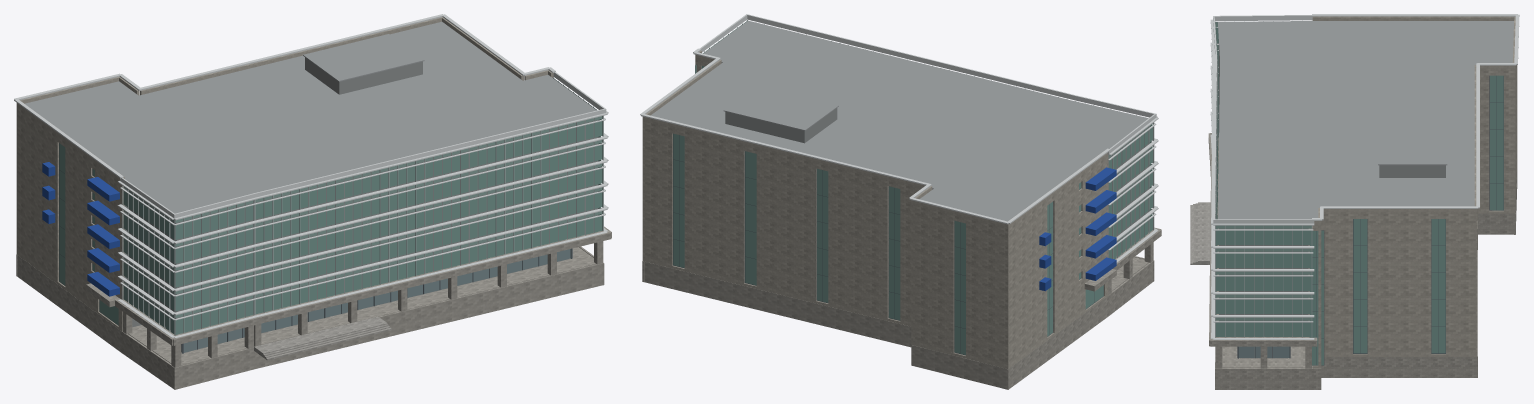
The picture shows the model from 3 angles, left to right: view 1: azimuth 30°, elevation 25°; view 2: azimuth 150°, elevation 25°; view 3: azimuth 270°, elevation 25°; orthographic projection. The views are drawn at different scales.
Parts seen in each view (by area): view 1: creativeLearning__roof, creativeLearning__glass, creativeLearning__stoneCol, creativeLearning__ledge, creativeLearning__stone, creativeLearning__core, creativeLearning__mullion, creativeLearning__glassSpandrel, creativeLearning__glassLow, creativeLearning__blueBox, creativeLearning__entranceSteps, creativeLearning__frame; view 2: creativeLearning__stone, creativeLearning__roof, creativeLearning__stoneCol, creativeLearning__glass, creativeLearning__ledge, creativeLearning__blueBox, creativeLearning__core, creativeLearning__frame, creativeLearning__mullion; view 3: creativeLearning__roof, creativeLearning__stone, creativeLearning__glass, creativeLearning__stoneCol, creativeLearning__ledge, creativeLearning__core, creativeLearning__glassSpandrel, creativeLearning__frame, creativeLearning__mullion, creativeLearning__entranceSteps, creativeLearning__glassLow.
Part boxes in pixels (x1=…): creativeLearning__roof: x1=25, y1=21, x2=596, y2=213; creativeLearning__glass: x1=59, y1=119, x2=602, y2=334; creativeLearning__stoneCol: x1=16, y1=226, x2=611, y2=389; creativeLearning__ledge: x1=14, y1=14, x2=608, y2=338; creativeLearning__stone: x1=16, y1=17, x2=553, y2=331; creativeLearning__core: x1=124, y1=57, x2=598, y2=352; creativeLearning__mullion: x1=122, y1=77, x2=603, y2=335; creativeLearning__glassSpandrel: x1=123, y1=78, x2=602, y2=317; creativeLearning__glassLow: x1=181, y1=249, x2=570, y2=352; creativeLearning__blueBox: x1=42, y1=162, x2=119, y2=296; creativeLearning__entranceSteps: x1=254, y1=316, x2=391, y2=360; creativeLearning__frame: x1=59, y1=143, x2=572, y2=353; creativeLearning__stone: x1=642, y1=51, x2=1108, y2=368; creativeLearning__roof: x1=651, y1=20, x2=1148, y2=221; creativeLearning__stoneCol: x1=642, y1=227, x2=1161, y2=389; creativeLearning__glass: x1=673, y1=65, x2=1152, y2=354; creativeLearning__ledge: x1=640, y1=14, x2=1158, y2=262; creativeLearning__blueBox: x1=1039, y1=167, x2=1116, y2=291; creativeLearning__core: x1=725, y1=108, x2=1148, y2=258; creativeLearning__frame: x1=673, y1=65, x2=1103, y2=355; creativeLearning__mullion: x1=704, y1=20, x2=1154, y2=258; creativeLearning__roof: x1=1217, y1=21, x2=1513, y2=219; creativeLearning__stone: x1=1312, y1=16, x2=1517, y2=368; creativeLearning__glass: x1=1215, y1=27, x2=1503, y2=365; creativeLearning__stoneCol: x1=1208, y1=133, x2=1517, y2=389; creativeLearning__ledge: x1=1210, y1=14, x2=1519, y2=339; creativeLearning__core: x1=1218, y1=40, x2=1445, y2=358; creativeLearning__glassSpandrel: x1=1215, y1=22, x2=1311, y2=320; creativeLearning__frame: x1=1237, y1=75, x2=1503, y2=365; creativeLearning__mullion: x1=1215, y1=20, x2=1312, y2=337; creativeLearning__entranceSteps: x1=1190, y1=202, x2=1210, y2=264; creativeLearning__glassLow: x1=1239, y1=346, x2=1289, y2=357.
Bounding box in the file's own units: 74.97 × 29.85 × 49.31.
12 materials, 3 textured.
